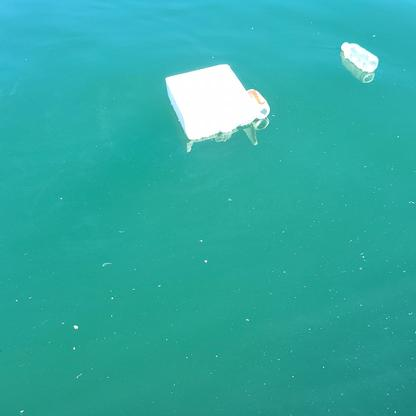can: (249, 87, 270, 118)
foam: (165, 64, 256, 140)
plastic bottle: (340, 41, 378, 73)
